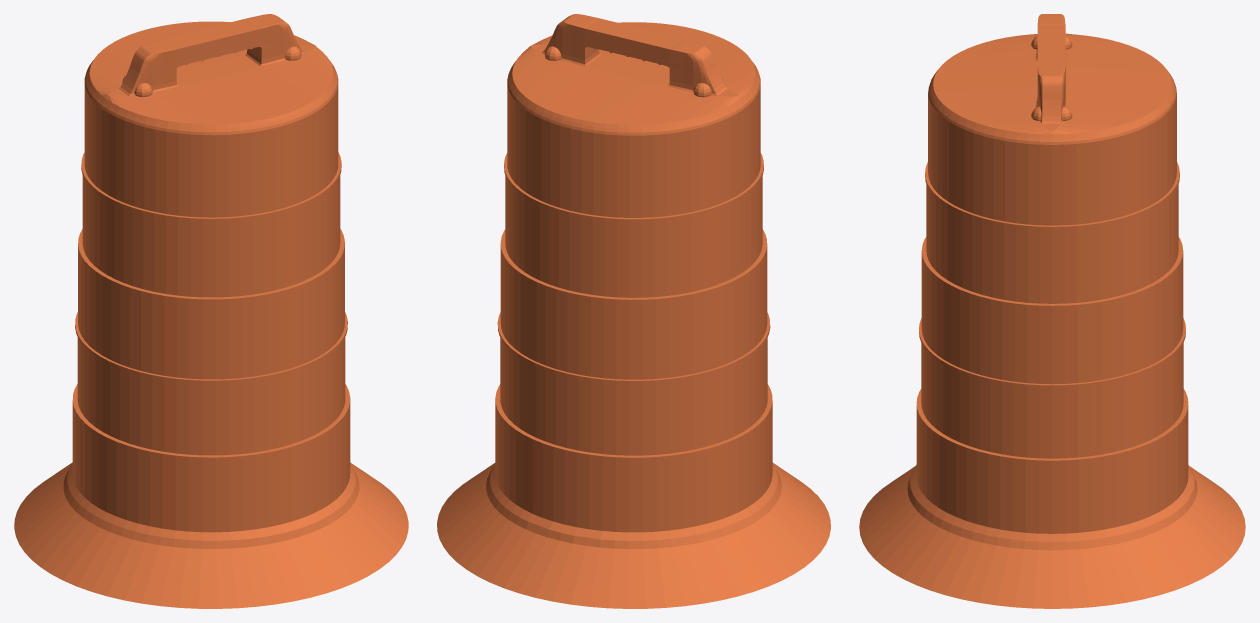
Rendered from TrafficDrum.fbx.
The picture shows the model from 3 angles, left to right: view 1: azimuth 30°, elevation 25°; view 2: azimuth 150°, elevation 25°; view 3: azimuth 270°, elevation 25°; orthographic projection. The views are drawn at different scales.
Parts seen in each view (by area): view 1: Circle; view 2: Circle; view 3: Circle.
Boxes of the visible parts, x1,y1,x2,y2 form: Circle: [14, 14, 408, 608]; Circle: [437, 14, 830, 608]; Circle: [859, 14, 1245, 608].
Bounding box in the file's own units: 239 × 328 × 239.
